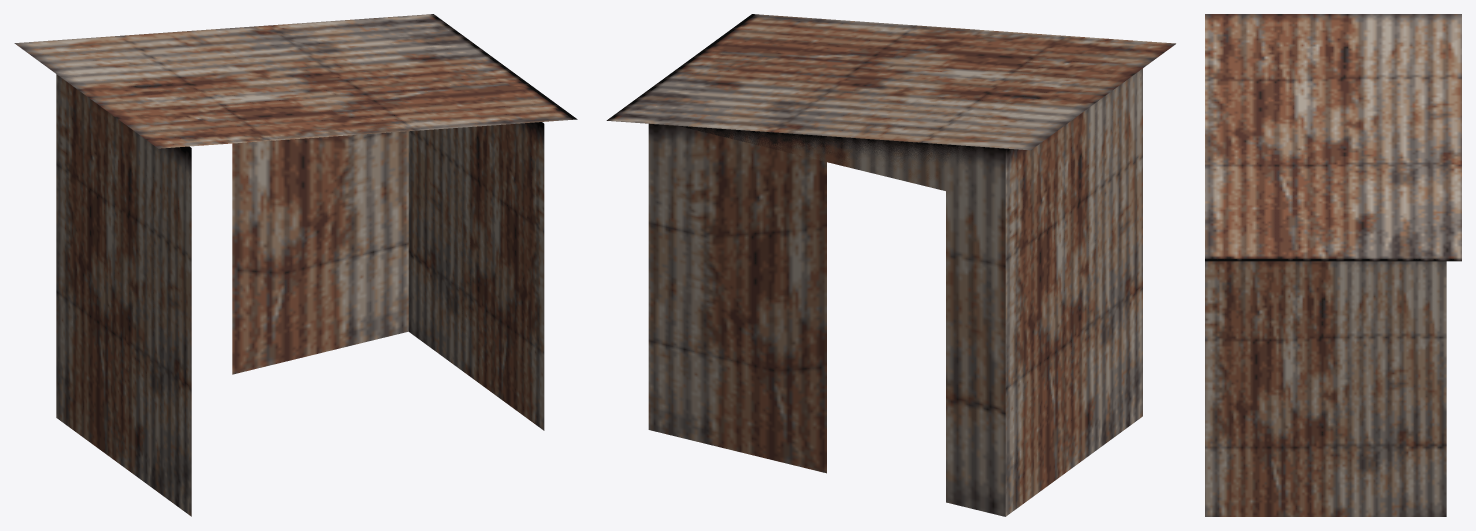
The model's file is Leanto A.glb.
3 renders of one model, left to right at view 1: azimuth 30°, elevation 25°; view 2: azimuth 150°, elevation 25°; view 3: azimuth 270°, elevation 25°, orthographic. The views are drawn at different scales.
Parts seen in each view (by area): view 1: SketchUp; view 2: SketchUp; view 3: SketchUp.
Boxes of the visible parts, x1,y1,x2,y2 form: SketchUp: (14,14,577,516); SketchUp: (606,14,1175,516); SketchUp: (1205,14,1461,516).
Size of the model in its own units: 3.57 by 3.06 by 2.12.
Materials: 1 (1 with a texture image).
